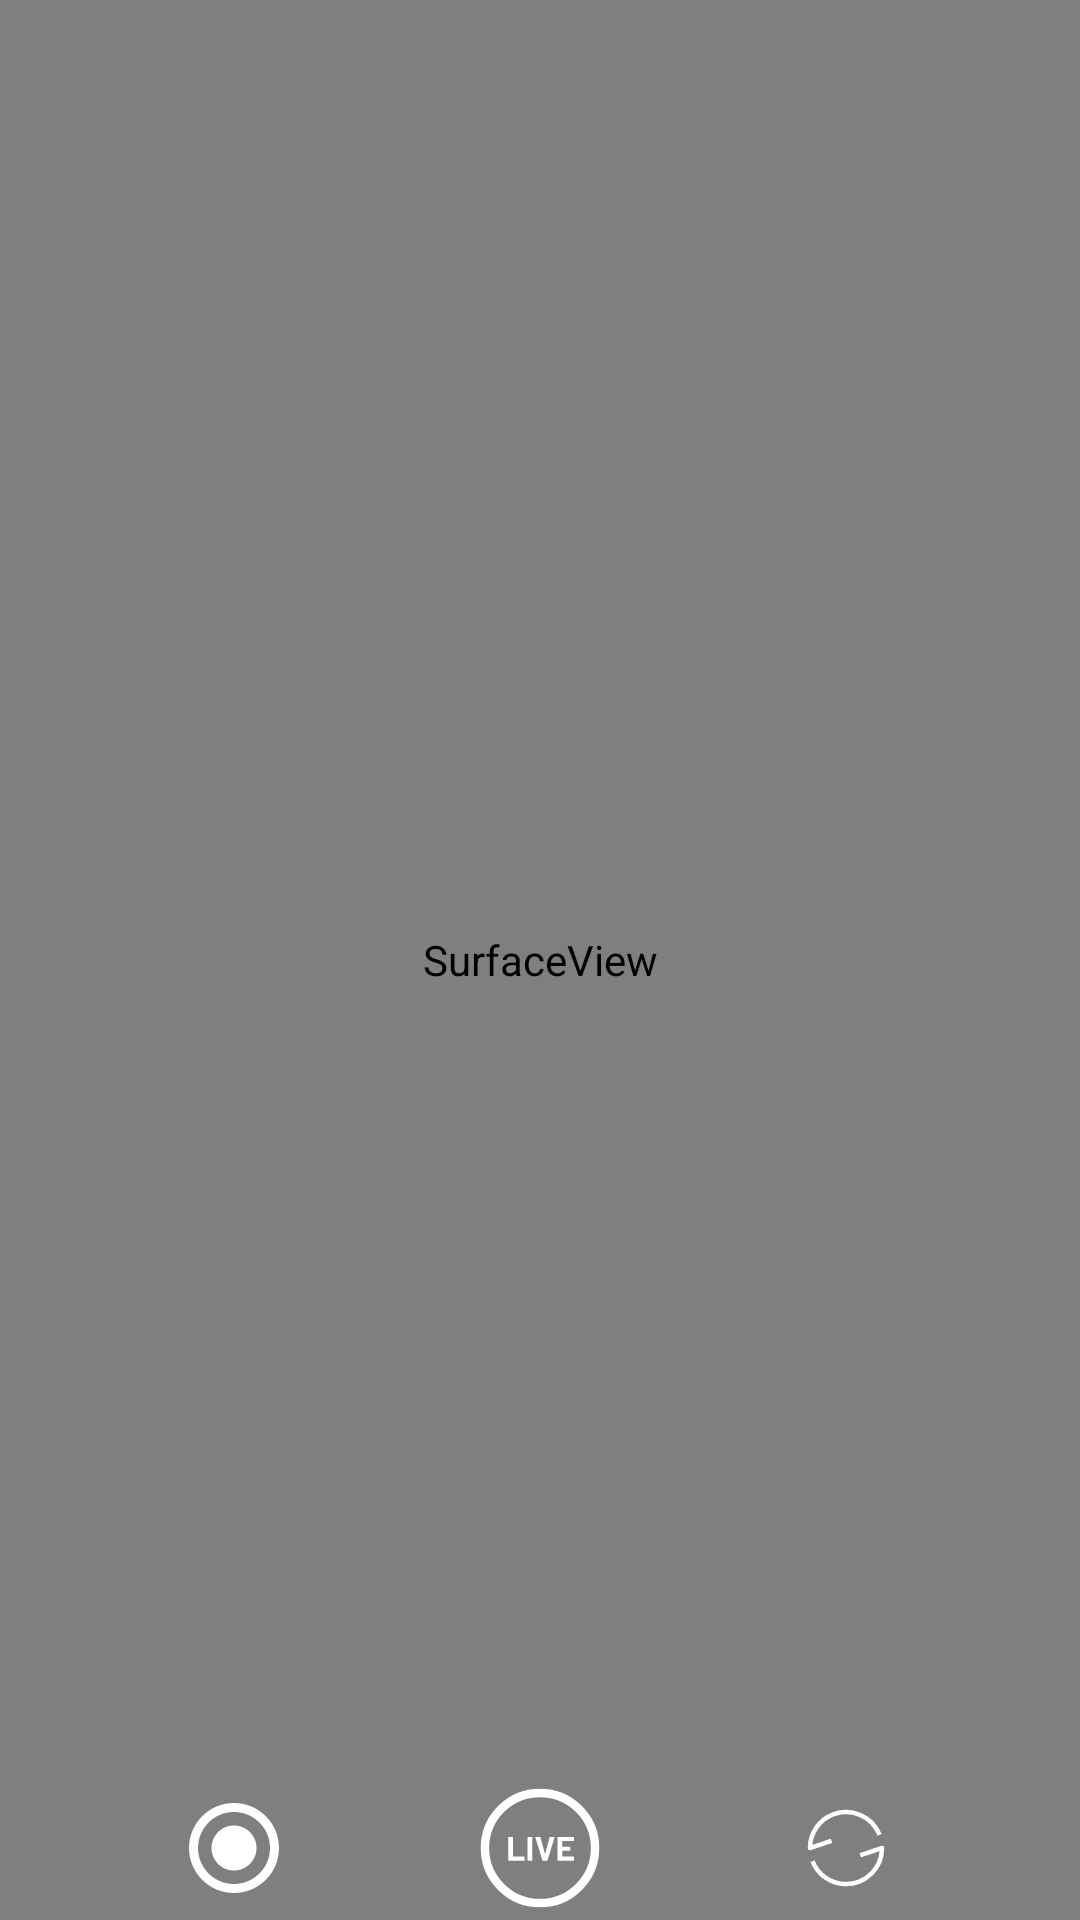

Screen size 1080px×1920px. Icon name, then its center in pixels as (x=x, y=y):
camera switch: (x=846, y=1848)
record start: (x=234, y=1848)
